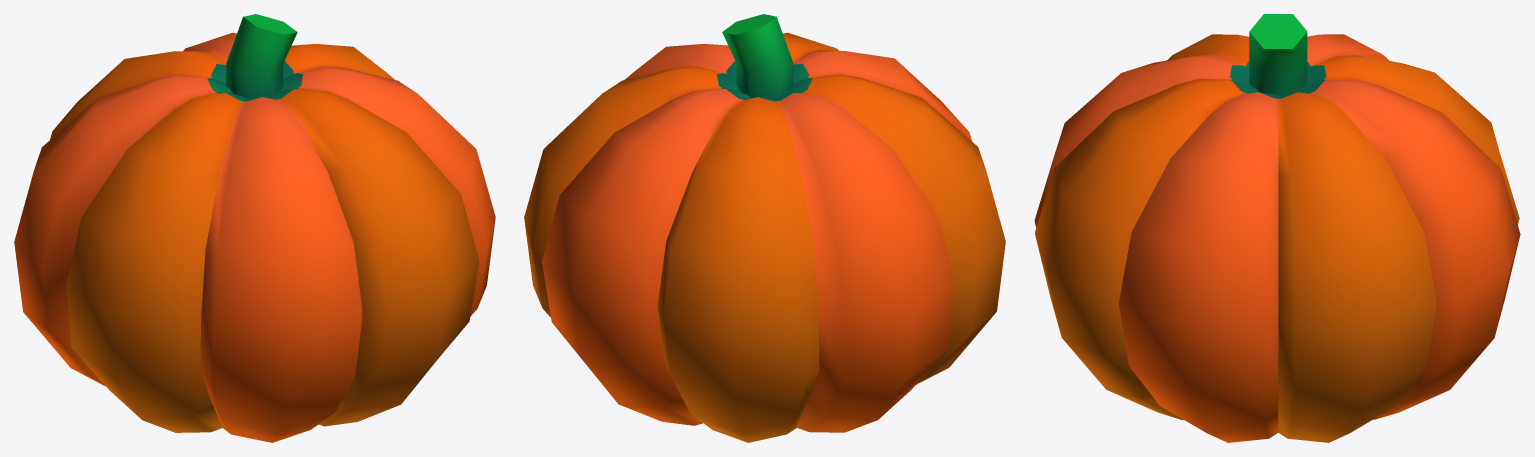
The model's file is SM_Pumpkin.fbx.
3 views of the same model, side by side, from view 1: azimuth 30°, elevation 25°; view 2: azimuth 150°, elevation 25°; view 3: azimuth 270°, elevation 25° (orthographic).
Parts seen in each view (by area): view 1: SM_Pumpkin; view 2: SM_Pumpkin; view 3: SM_Pumpkin.
Boxes of the visible parts, x1,y1,x2,y2 form: SM_Pumpkin: (14,14,495,442); SM_Pumpkin: (524,14,1005,442); SM_Pumpkin: (1034,14,1520,442).
Bounding box in the file's own units: 1.53 × 1.34 × 1.57.
